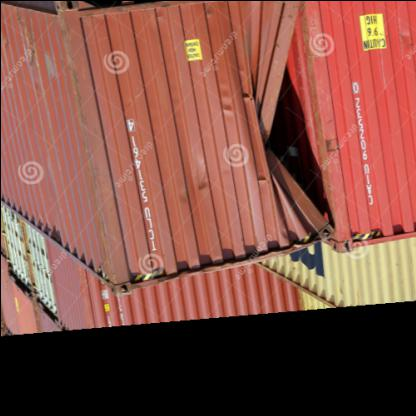Damage: (254, 47, 336, 214)
